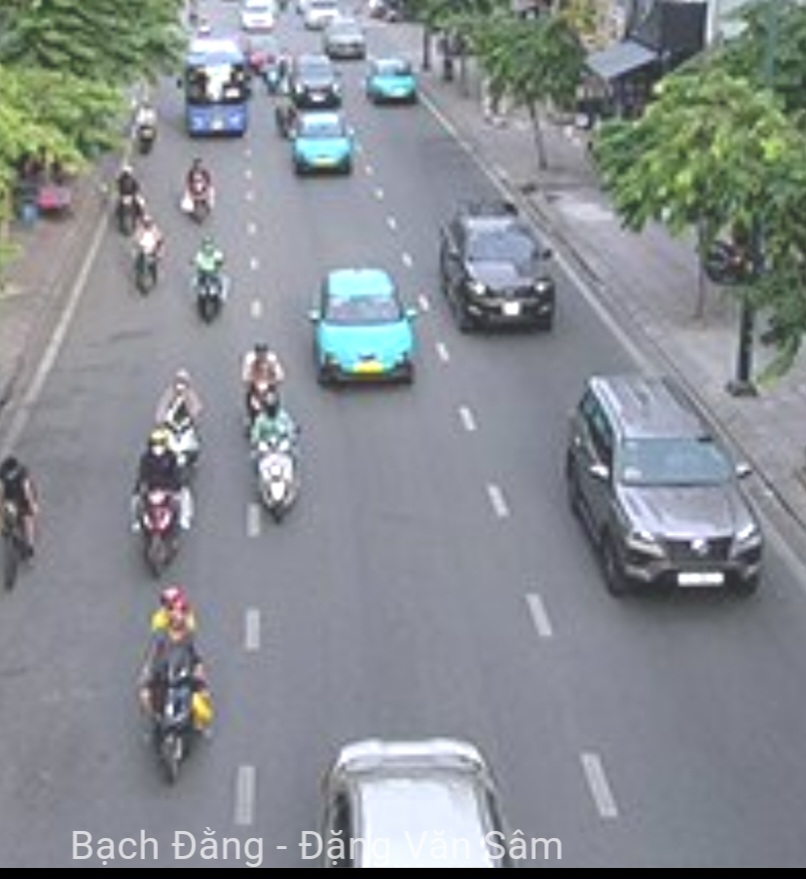car: (568, 375, 765, 602), (441, 200, 556, 336), (312, 268, 415, 389), (295, 112, 351, 176), (292, 53, 342, 107), (368, 58, 418, 104)
